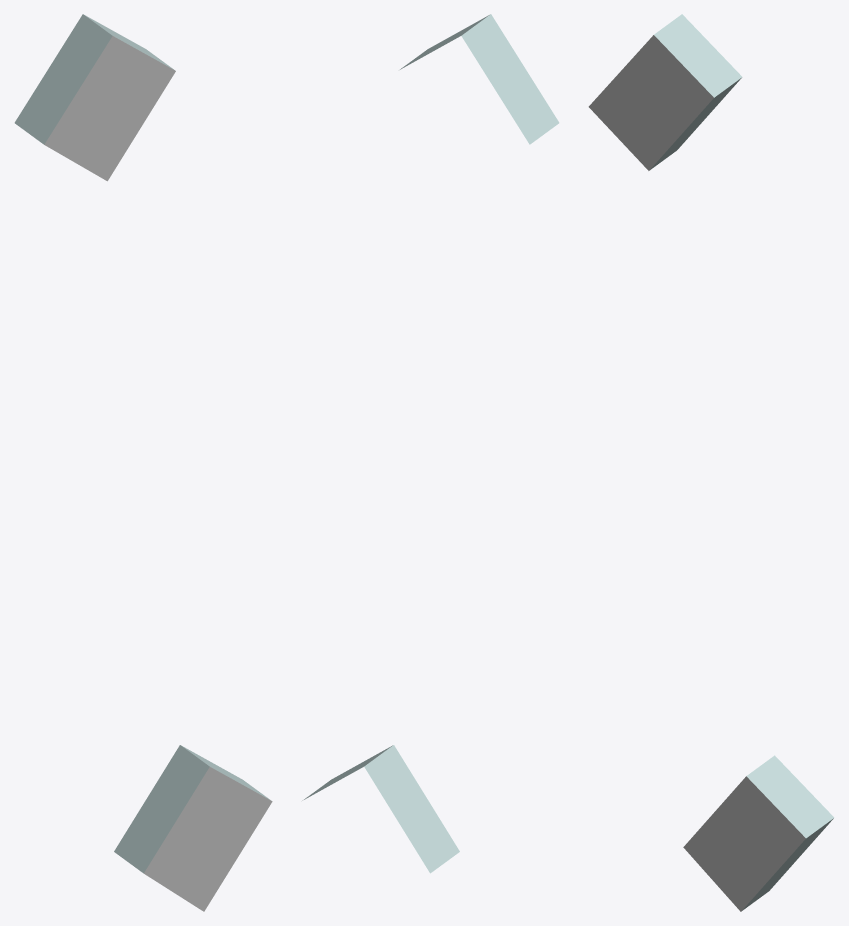
3 renders of one model, left to right at view 1: azimuth 30°, elevation 25°; view 2: azimuth 150°, elevation 25°; view 3: azimuth 330°, elevation 25°, orthographic. The views are drawn at different scales.
Visible parts, largest first — view 1: 0_1_0_1_2_1_3_2_3; view 2: 0_1_0_1_2_1_3_2_3; view 3: 0_1_0_1_2_1_3_2_3.
Boxes of the visible parts, left/top/right/bottom form: 0_1_0_1_2_1_3_2_3: left=14, top=14, right=272, bottom=911; 0_1_0_1_2_1_3_2_3: left=302, top=14, right=559, bottom=873; 0_1_0_1_2_1_3_2_3: left=588, top=14, right=834, bottom=911.
Size of the model in its own units: 13.26 by 49.83 by 3.
